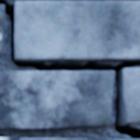brick: (14, 1, 139, 60), (0, 71, 113, 129), (120, 68, 139, 122), (0, 6, 4, 51), (19, 138, 125, 139), (0, 137, 9, 139)
crack: (0, 0, 139, 139)
